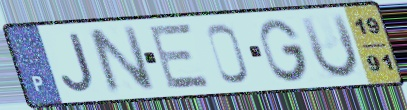0: (205, 22, 251, 86)
E: (147, 21, 214, 92)
G: (256, 16, 312, 84)
J: (59, 31, 98, 94)
N: (83, 23, 159, 97)
U: (296, 11, 362, 82)
